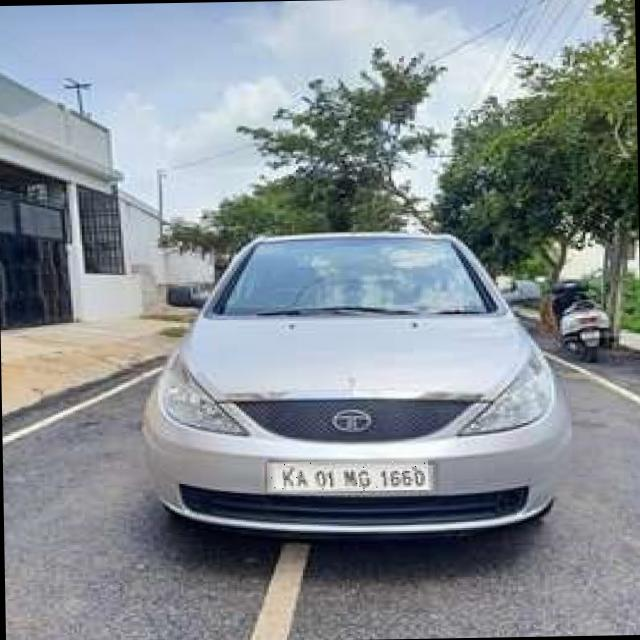Plate: (268, 460, 429, 493)
